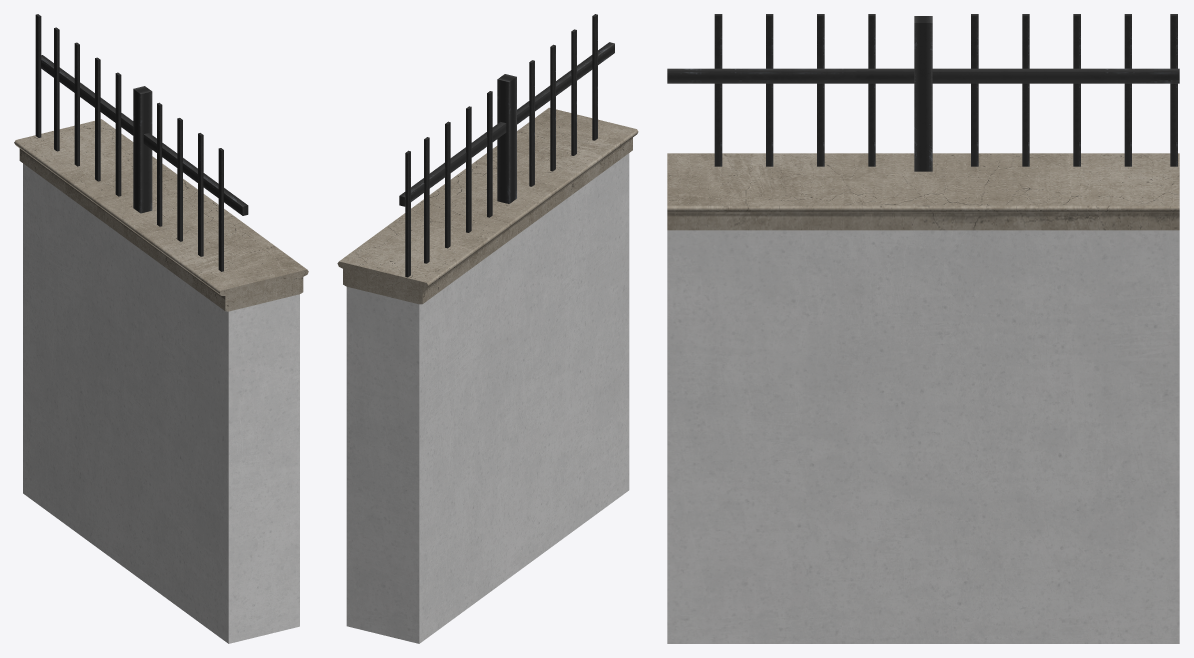
The model's file is MB_Fence_B_2m.fbx.
The picture shows the model from 3 angles, left to right: view 1: azimuth 30°, elevation 25°; view 2: azimuth 150°, elevation 25°; view 3: azimuth 270°, elevation 25°; orthographic projection. The views are drawn at different scales.
Visible parts, largest first — view 1: MB_Fence_B_2m; view 2: MB_Fence_B_2m; view 3: MB_Fence_B_2m.
Part boxes in pixels (x1,y1,x2,y2): MB_Fence_B_2m: [14, 14, 308, 643]; MB_Fence_B_2m: [337, 14, 638, 643]; MB_Fence_B_2m: [667, 14, 1179, 643].
Bounding box in the file's own units: 50.05 × 256 × 200.
